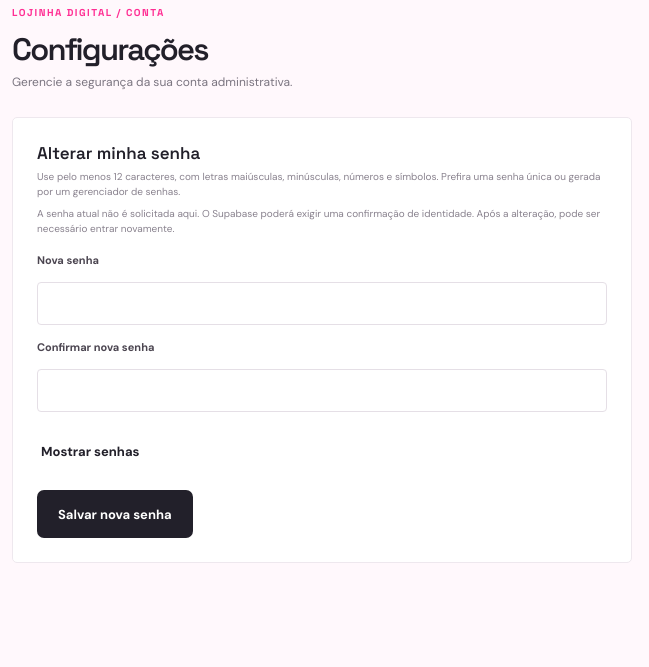
Test: alteração de senha administrativa › traduz erro {"code":"reauthentication_needed"} e limpa campos
The width and height of the screenshot is (649, 667).
Type "Teste-Seguro123!" into the password field labelled "Nova senha" at [322, 304], box [37,282,607,325]
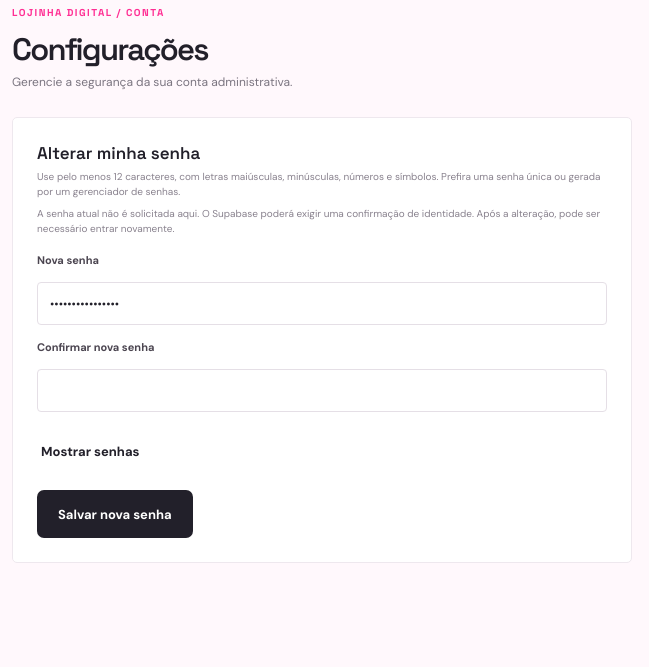
Type "Teste-Seguro123!" into the password field labelled "Confirmar nova senha" at [322, 390], box [37,369,607,412]
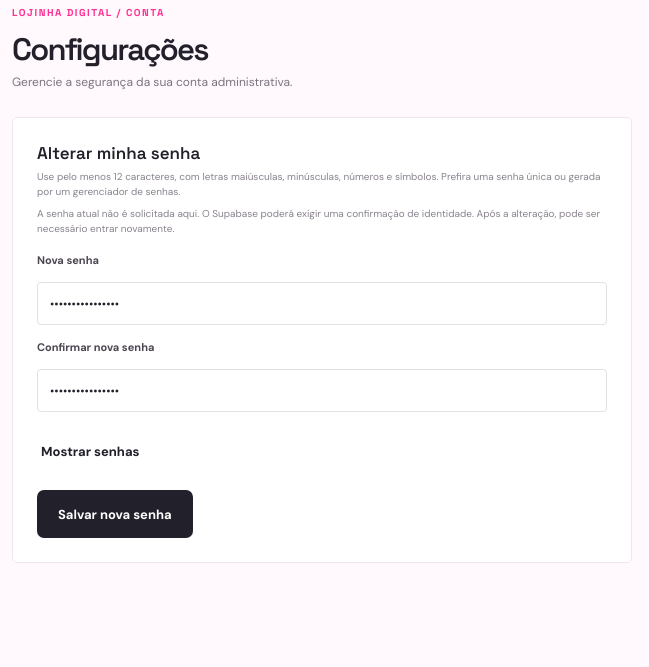
Submit the form named "Salvar nova senha"
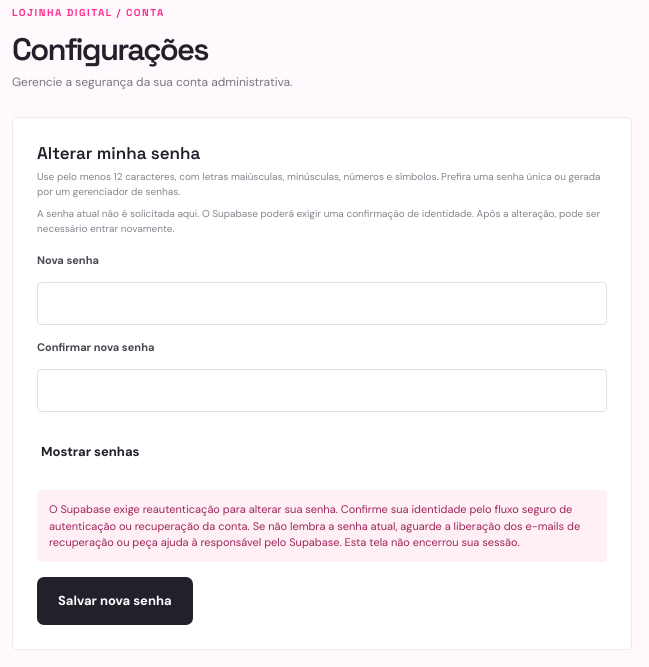
Check: the message shows "exige reautenticação", box [49,502,580,549]
Check: the password field labelled "Nova senha" is empty, box [37,282,607,325]
